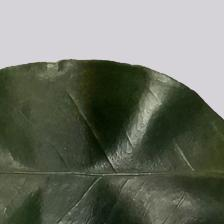healthy: (1, 68, 224, 224)
